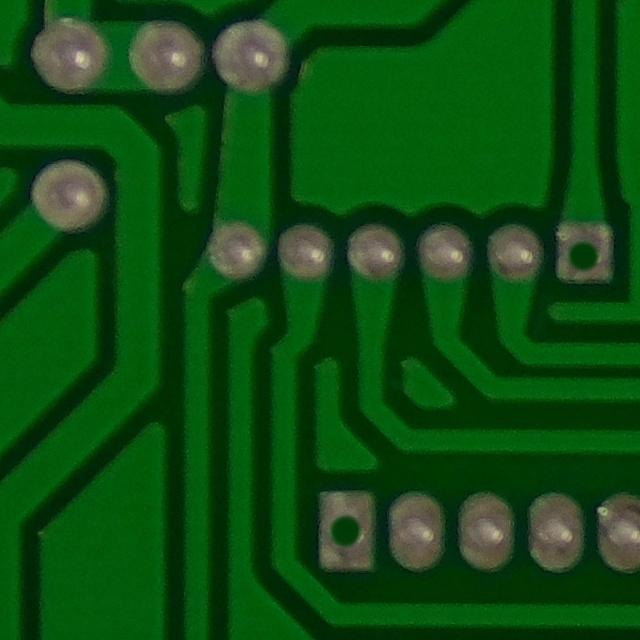missing_hole: (306, 487, 387, 577), (549, 215, 627, 289)
